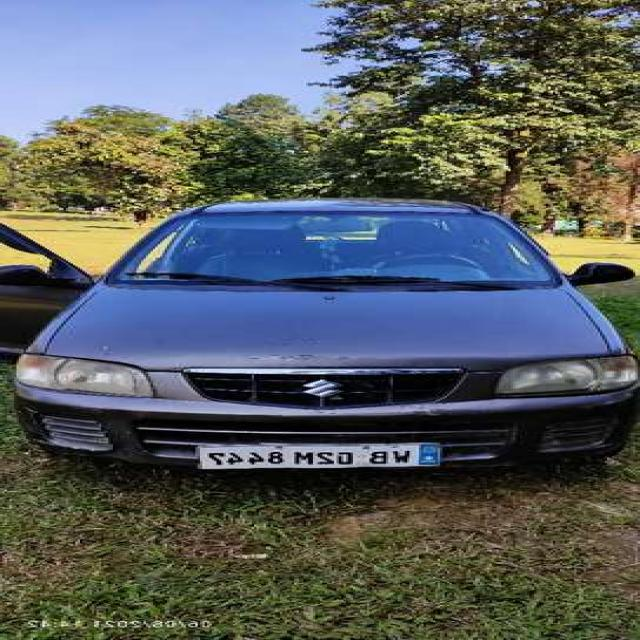license_plate: (169, 438, 447, 477)
